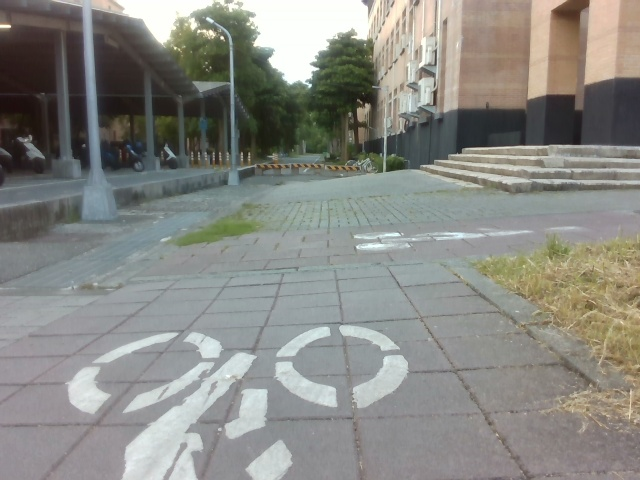grass: (137, 0, 404, 173), (453, 231, 639, 397)
road: (0, 170, 639, 479)
sidewalk: (111, 173, 255, 242), (0, 181, 82, 288)
